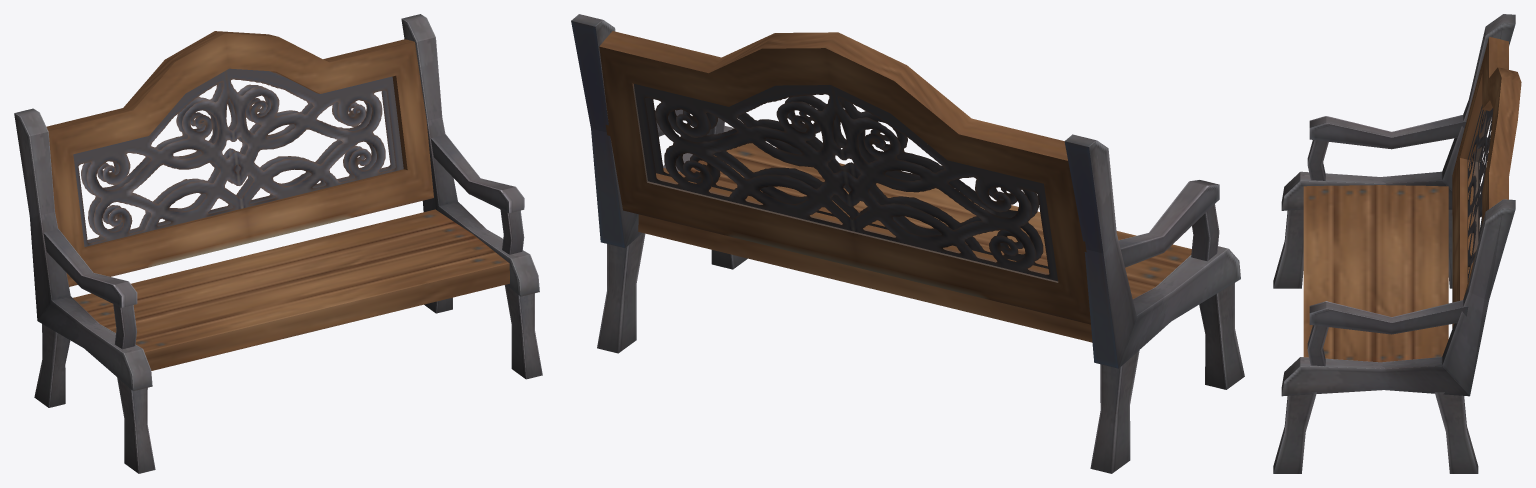
Rendered from bench_3.FBX.
3 renders of one model, left to right at view 1: azimuth 30°, elevation 25°; view 2: azimuth 150°, elevation 25°; view 3: azimuth 270°, elevation 25°, orthographic. The views are drawn at different scales.
Visible parts, largest first — view 1: bench_3; view 2: bench_3; view 3: bench_3.
Part boxes in pixels (x1=…): bench_3: x1=14, y1=14, x2=542, y2=473; bench_3: x1=571, y1=14, x2=1244, y2=473; bench_3: x1=1273, y1=14, x2=1521, y2=473.
Size of the model in its own units: 31.33 by 22.52 by 16.89.
